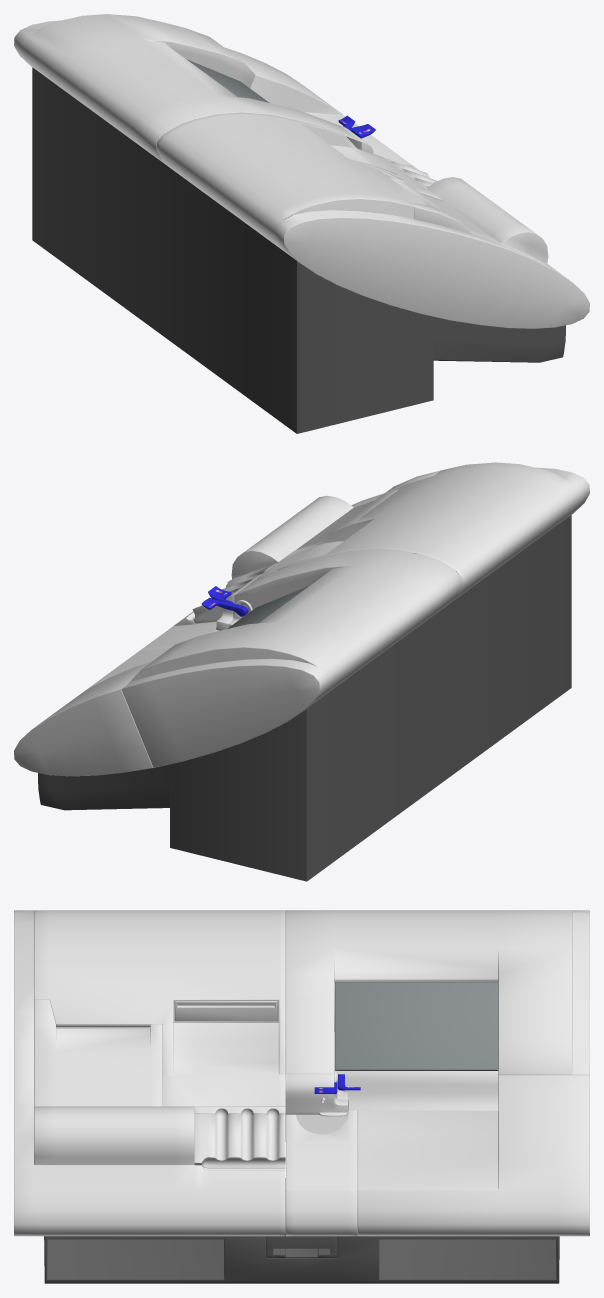
File: BloodGasAnalyzer.004.fbx
3 views of the same model, one above another, from view 1: azimuth 30°, elevation 25°; view 2: azimuth 150°, elevation 25°; view 3: azimuth 270°, elevation 25° (orthographic). The views are drawn at different scales.
Parts seen in each view (by area): view 1: GEO_BloodGasAnalyzer_Base, GEO_BloodGasAnalyzer_BodyLeft, GEO_BloodGasAnalyzer_Body_TopRight, GEO_BloodGasAnalyzer_Body_Bottom Right, GEO_BloodGasAnalyzer_RecieptCover, GEO_BloodGasAnalyzer_SlideCover; view 2: GEO_BloodGasAnalyzer_Base, GEO_BloodGasAnalyzer_Body_TopRight, GEO_BloodGasAnalyzer_BodyLeft, GEO_BloodGasAnalyzer_Body_Bottom Right, GEO_BloodGasAnalyzer_RecieptCover, GEO_BloodGasAnalyzer_Body_BottomCentre.000, GEO_BloodGasAnalyzer_PicoSlide, GEO_BloodGasAnalyzer_SlideCover; view 3: GEO_BloodGasAnalyzer_BodyLeft, GEO_BloodGasAnalyzer_Body_TopRight, GEO_BloodGasAnalyzer_Body_Bottom Right, GEO_BloodGasAnalyzer_Base, GEO_BloodGasAnalyzer_SlideCover, GEO_BloodGasAnalyzer_RecieptCover, GEO_BloodGasAnalyzer_Body_BottomCentre.000, GEO_BloodGasAnalyzer_SideFront, GEO_BloodGasAnalyzer_PicoSlide, GEO_BloodGasAnalyzer_PicoIntake, GEO_BloodGasAnalyzer_PrintCover, GEO_BloodGasAnalyzer_DiscIntake (+1 smaller).
Boxes of the visible parts, box(x1,y1,x2,y2) form: GEO_BloodGasAnalyzer_Base: box(32, 67, 565, 433); GEO_BloodGasAnalyzer_BodyLeft: box(156, 112, 589, 328); GEO_BloodGasAnalyzer_Body_TopRight: box(14, 14, 361, 168); GEO_BloodGasAnalyzer_Body_Bottom Right: box(224, 47, 411, 164); GEO_BloodGasAnalyzer_RecieptCover: box(379, 169, 499, 242); GEO_BloodGasAnalyzer_SlideCover: box(186, 59, 269, 102); GEO_BloodGasAnalyzer_Base: box(38, 515, 571, 881); GEO_BloodGasAnalyzer_Body_TopRight: box(121, 549, 462, 767); GEO_BloodGasAnalyzer_BodyLeft: box(173, 462, 589, 626); GEO_BloodGasAnalyzer_Body_Bottom Right: box(14, 648, 169, 776); GEO_BloodGasAnalyzer_RecieptCover: box(295, 470, 439, 550); GEO_BloodGasAnalyzer_Body_BottomCentre.000: box(140, 622, 219, 650); GEO_BloodGasAnalyzer_PicoSlide: box(192, 563, 276, 623); GEO_BloodGasAnalyzer_SlideCover: box(227, 585, 310, 628); GEO_BloodGasAnalyzer_BodyLeft: box(14, 910, 285, 1236); GEO_BloodGasAnalyzer_Body_TopRight: box(285, 910, 589, 1084); GEO_BloodGasAnalyzer_Body_Bottom Right: box(357, 1075, 589, 1236); GEO_BloodGasAnalyzer_Base: box(44, 1178, 559, 1283); GEO_BloodGasAnalyzer_SlideCover: box(335, 982, 498, 1070); GEO_BloodGasAnalyzer_RecieptCover: box(34, 1000, 162, 1106); GEO_BloodGasAnalyzer_Body_BottomCentre.000: box(285, 1110, 357, 1236); GEO_BloodGasAnalyzer_SideFront: box(336, 1071, 498, 1110); GEO_BloodGasAnalyzer_PicoSlide: box(194, 1106, 285, 1168); GEO_BloodGasAnalyzer_PicoIntake: box(285, 1073, 347, 1116); GEO_BloodGasAnalyzer_PrintCover: box(175, 1001, 277, 1021); GEO_BloodGasAnalyzer_DiscIntake: box(266, 1225, 337, 1257).
Size of the model in its own units: 6019 by 4098 by 9201.
